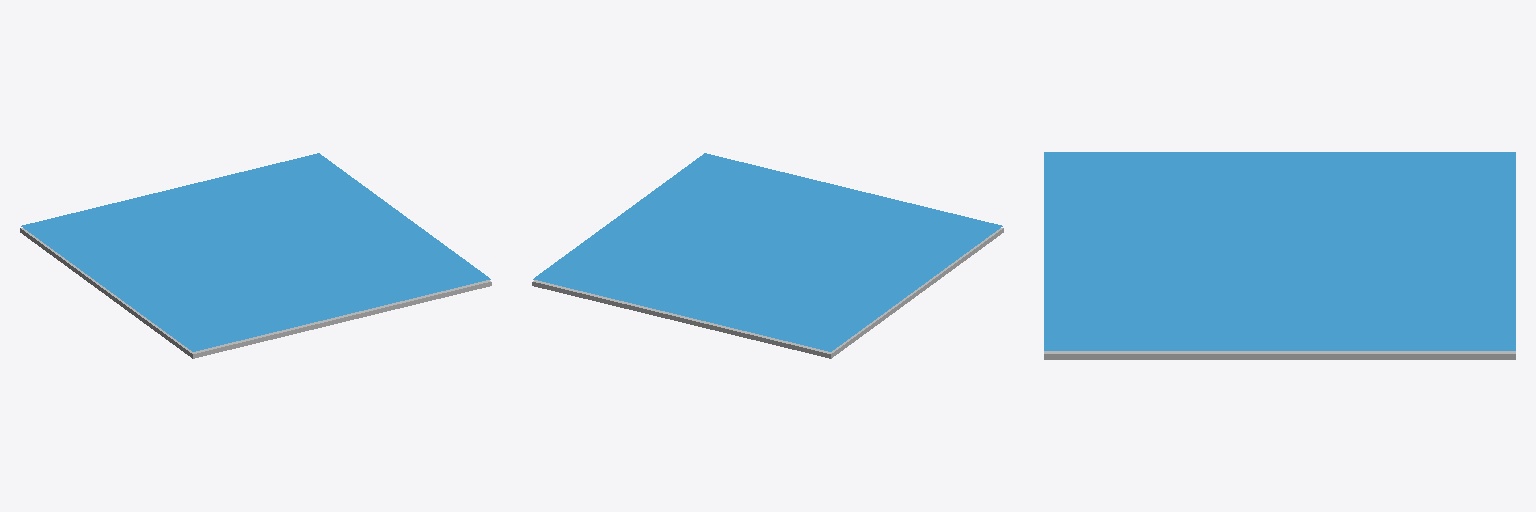
The robot description file, URDF, robot "neor_mini":
<?xml version="1.0" encoding="utf-8"?>
<!-- This URDF was automatically created by SolidWorks to URDF Exporter! Originally created by [author] ([email redacted]) 
     Commit Version: 1.5.1-0-g916b5db  Build Version: 1.5.7152.31018
     For more information, please see http://wiki.ros.org/sw_urdf_exporter -->
<robot name="neor_mini">

  <!-- Add Gazebo plugins -->
    <!-- Load ros_control plugin using the steer_bot_hardware_gazebo
    implementation of the hardware_interface::RobotHW -->

  <gazebo>
    <plugin name="gazebo_ros_control" filename="libgazebo_ros_control.so">
      <robotSimType>steer_bot_hardware_gazebo/SteerBotHardwareGazebo</robotSimType>
      <legacyModeNS>false</legacyModeNS>
    </plugin>
  </gazebo>

       <link name="base_link">
    <!-- avoid root link inertia warnings, annotation -->
    <inertial>
      <origin
        xyz="0.030649671440691 -1.79069899872708E-05 0.0558717976709459"
        rpy="0 0 0" />
      <mass
        value="1.72617713171385" />
      <inertia
        ixx="0.0107311274569357"
        ixy="-3.24164649120244E-08"
        ixz="0.00169188715816868"
        iyy="0.0198871551919603"
        iyz="2.40252669081509E-07"
        izz="0.0269841937242323" />
    </inertial>

    <visual>
      <origin xyz="0 0 0" rpy="0 0 0" />
      <geometry>
        <mesh filename="package://neor_mini/meshes/base_link.dae" />
      </geometry>
      <material name="">
      <color rgba="0.250980392156863 0.250980392156863 0.250980392156863 1" /> 
      </material> 
    </visual>
    <collision>
      <origin
        xyz="0 0 0"
        rpy="0 0 0" />
      <geometry>
        <mesh
          filename="package://neor_mini/meshes/base_link.STL" />
      </geometry>
    </collision>
  </link>
  <link
    name="rear_wheel_link">
    <inertial>
      <origin
        xyz="-8.88178419700125E-16 -2.05391259555654E-14 -0.00112500000001892"
        rpy="0 0 0" />
      <mass
        value="5.65486677646169E-05" />
      <inertia
        ixx="1.32005796313028E-10"
        ixy="-1.938704560671E-27"
        ixz="2.13770572261755E-26"
        iyy="1.32005796313028E-10"
        iyz="-7.60216295195271E-25"
        izz="2.03575203952622E-10" />
    </inertial>
    <visual>
      <origin
        xyz="0 0 0"
        rpy="0 0 0" />
      <geometry>
        <mesh
          filename="package://neor_mini/meshes/rear_wheel_link.STL" />
      </geometry>
      <material
        name="">
        <color
          rgba="0.274509803921569 1 0.247058823529412 1" />
      </material>
    </visual>
    <collision>
      <origin
        xyz="0 0 0"
        rpy="0 0 0" />
      <geometry>
        <mesh
          filename="package://neor_mini/meshes/rear_wheel_link.STL" />
      </geometry>
    </collision>
  </link>
  <joint
    name="rear_wheel_joint"
    type="continuous">
    <origin
      xyz="-0.181499999999597 0 0.0399999999987674"
      rpy="0 0 0" />
    <parent
      link="base_link" />
    <child
      link="rear_wheel_link" />
    <axis
      xyz="0 1 0" />
  </joint>
  <link
    name="left_rear_link">
    <inertial>
      <origin
        xyz="7.85229659072684E-11 -0.0196762547002777 4.85059770127805E-11"
        rpy="0 0 0" />
      <mass
        value="0.29556182905038" />
      <inertia
        ixx="0.000374087423652291"
        ixy="2.19336154342606E-13"
        ixz="-5.50404301757561E-12"
        iyy="0.000661017199375587"
        iyz="-5.10049385981967E-14"
        izz="0.000374087441459994" />
    </inertial>
    <visual>
      <origin
        xyz="0 0 0"
        rpy="0 0 0" />
      <geometry>
        <mesh
          filename="package://neor_mini/meshes/left_rear_link.STL" />
      </geometry>
      <material
        name="">
        <color
          rgba="0.792156862745098 0.819607843137255 0.933333333333333 1" />
      </material>
    </visual>
    <collision>
      <origin
        xyz="0 0 0"
        rpy="0 0 0" />
      <geometry>
        <mesh
          filename="package://neor_mini/meshes/left_rear_link.STL" />
      </geometry>
    </collision>
  </link>
  <joint
    name="left_rear_joint"
    type="continuous">
    <origin
      xyz="-0.181499999999595 0.228542434993694 0.0399999999991634"
      rpy="0 0 0" />
    <parent
      link="base_link" />
    <child
      link="left_rear_link" />
    <axis
      xyz="0 1 0" />
    <limit
      lower="-3.14"
      upper="3.14"
      effort="0"
      velocity="0" />
  </joint>
  <link
    name="right_rear_link">
    <inertial>
      <origin
        xyz="7.8521189550429E-11 0.0196762545376323 3.35983463273237E-11"
        rpy="0 0 0" />
      <mass
        value="0.295561829050389" />
      <inertia
        ixx="0.000374087423652306"
        ixy="-2.1933774523493E-13"
        ixz="5.50404145624456E-12"
        iyy="0.000661017199375601"
        iyz="-5.10073974604221E-14"
        izz="0.000374087441459995" />
    </inertial>
    <visual>
      <origin
        xyz="0 0 0"
        rpy="0 0 0" />
      <geometry>
        <mesh
          filename="package://neor_mini/meshes/right_rear_link.STL" />
      </geometry>
      <material
        name="">
        <color
          rgba="0.792156862745098 0.819607843137255 0.933333333333333 1" />
      </material>
    </visual>
    <collision>
      <origin
        xyz="0 0 0"
        rpy="0 0 0" />
      <geometry>
        <mesh
          filename="package://neor_mini/meshes/right_rear_link.STL" />
      </geometry>
    </collision>
  </link>
  <joint
    name="right_rear_joint"
    type="continuous">
    <origin
      xyz="-0.181499999999595 -0.228542434994426 0.0399999999991584"
      rpy="0 0 0" />
    <parent
      link="base_link" />
    <child
      link="right_rear_link" />
    <axis
      xyz="0 1 0" />
    <limit
      lower="-3.14"
      upper="3.14"
      effort="0"
      velocity="0" />
  </joint>
  <link
    name="front_steer_link">
    <inertial>
      <origin
        xyz="-2.1316282072803E-14 3.67778030252452E-11 -0.00112486602459905"
        rpy="0 0 0" />
      <mass
        value="5.65486677646163E-05" />
      <inertia
        ixx="1.32005796313026E-10"
        ixy="1.16322273640277E-26"
        ixz="1.20446157864484E-28"
        iyy="1.32005796313026E-10"
        iyz="-8.66481261175625E-27"
        izz="2.03575203952619E-10" />
    </inertial>
    <visual>
      <origin
        xyz="0 0 0"
        rpy="0 0 0" />
      <geometry>
        <mesh
          filename="package://neor_mini/meshes/front_steer_link.STL" />
      </geometry>
      <material
        name="">
        <color
          rgba="0.274509803921569 1 0.247058823529412 1" />
      </material>
    </visual>
    <collision>
      <origin
        xyz="0 0 0"
        rpy="0 0 0" />
      <geometry>
        <mesh
          filename="package://neor_mini/meshes/front_steer_link.STL" />
      </geometry>
    </collision>
  </link>
  <joint
    name="front_steer_joint"
    type="revolute">
    <origin
      xyz="0.172883370897628 0 -0.00376561854722868"
      rpy="0 0 0" />
    <parent
      link="base_link" />
    <child
      link="front_steer_link" />
    <axis
      xyz="0 0 1" />
    <limit
      lower="-0.72"
      upper="0.72"
      effort="0"
      velocity="0" />
  </joint>

<!-- In order to fit ackermann simulation plugins's request,amend the front steer link and it's joint -->
 <link name="front_steer_right_link">
 <!--  remember add inertial  label,if not,and it can't visual on gazebo-->
 <inertial>  
      <origin xyz="9.44636555644252E-08 -0.000295273745285485 -8.13046296954667E-11" rpy="0 0 0" />
      <mass value="0.296315811300368" /> 
      <inertia
        ixx="0.000374692013709393"
        ixy="-9.17172260383823E-08"
        ixz="-2.43187512356516E-12"
        iyy="0.000661029987747155"
        iyz="1.9736939507106E-13"
        izz="0.000374691963930348" />
    </inertial>
   <visual>
     <geometry>
       <cylinder length="0.001" radius="0.005"/>
     </geometry>
     <origin rpy="0 0 0"  xyz="0 0 0" />
     <material name=""> 
          <color rgba="0.792156862745098 0.819607843137255 0.933333333333333 1" />
     </material>
   </visual>
   <collision>
      <origin
        xyz="0 0 0"
        rpy="0 0 0" />
      <geometry>
       <cylinder length="0.001" radius="0.005"/>
      </geometry>
    </collision>
 </link>
 <joint name="front_steer_right_joint" type="revolute">
    <origin rpy="0 0 0"  xyz="0.17 -0.21 0.102" />
    <parent link="base_link" />
    <child link="front_steer_right_link" />
    <axis xyz="0 0 1" />     <!-- charge steer direction default is 0 0 1-->
    <limit lower="-0.69" upper="0.69" effort="0" velocity="0" />
 </joint>
<!-- ************************************************************************************* -->

  <link
    name="front_right_wheel_link">
    <inertial>
      <origin
        xyz="9.44636555644252E-08 -0.000295273745285485 -8.13046296954667E-11"
        rpy="0 0 0" />
      <mass
        value="0.296315811300368" />
      <inertia
        ixx="0.000374692013709393"
        ixy="-9.17172260383823E-08"
        ixz="-2.43187512356516E-12"
        iyy="0.000661029987747155"
        iyz="1.9736939507106E-13"
        izz="0.000374691963930348" />
    </inertial>
    <visual>
      <origin
        xyz="0 0 0"
        rpy="0 0 0" />
      <geometry>
        <mesh
          filename="package://neor_mini/meshes/front_right_wheel_link.STL" />
      </geometry>
      <material
        name="">
        <color
          rgba="0.792156862745098 0.819607843137255 0.933333333333333 1" />
      </material>
    </visual>
    <collision>
      <origin
        xyz="0 0 0"
        rpy="0 0 0" />
      <geometry>
        <mesh
          filename="package://neor_mini/meshes/front_right_wheel_link.STL" />
      </geometry>
    </collision>
  </link>
  <joint name="front_right_wheel_joint" type="continuous">
    <origin xyz="0 0 -0.06" rpy="0 0 0" />   <!-- amend the position between steer_right_link and front right wheel-->
    <parent link="front_steer_right_link" />
    <child  link="front_right_wheel_link" />
    <axis xyz="0 1 0" />
  </joint>

<!-- In order to fit ackermann simulation plugins's request,amend the front steer link and it's joint -->
 <link name="front_steer_left_link">
 <!--  remember add inertial  label,if not,and it can't visual on gazebo-->
    <inertial> 
      <origin xyz="9.44636555644252E-08 -0.000295273745285485 -8.13046296954667E-11" rpy="0 0 0" />
      <mass value="0.296315811300368" /> 
      <inertia
        ixx="0.000374692013709393"
        ixy="-9.17172260383823E-08"
        ixz="-2.43187512356516E-12"
        iyy="0.000661029987747155"
        iyz="1.9736939507106E-13"
        izz="0.000374691963930348" />
    </inertial>
   <visual>
     <geometry>
       <cylinder length="0.001" radius="0.005"/>
     </geometry>
     <origin rpy="0 0 0"  xyz="0 0 0" />
   </visual>
    <collision>
      <origin xyz="0 0 0" rpy="0 0 0" />
      <geometry>
       <cylinder length="0.001" radius="0.005"/>
      </geometry>
    </collision>
 </link>
 <joint name="front_steer_left_joint" type="revolute">
    <origin rpy="0 0 0"  xyz="0.17 0.21 0.102" />
    <parent link="base_link" />
    <child link="front_steer_left_link" />
    <axis xyz="0 0 1" />  <!-- charge steer direction default is 0 0 1-->
    <limit lower="-0.69" upper="0.69" effort="0" velocity="0" />
 </joint>
<!-- ************************************************************************************* -->

  <link
    name="front_left_wheel_link">
    <inertial>
      <origin
        xyz="-3.99413835339146E-11 0.000295273997845347 1.08602016268833E-10"
        rpy="0 0 0" />
      <mass
        value="0.296315811293944" />
      <inertia
        ixx="0.00037469197851121"
        ixy="-1.84493877596723E-13"
        ixz="-9.50756757097929E-12"
        iyy="0.00066103001709398"
        iyz="-1.17866882205563E-13"
        izz="0.000374691969713977" />
    </inertial>
    <visual>
      <origin
        xyz="0 0 0"
        rpy="0 0 0" />
      <geometry>
        <mesh
          filename="package://neor_mini/meshes/front_left_wheel_link.STL" />
      </geometry>
      <material
        name="">
        <color
          rgba="0.792156862745098 0.819607843137255 0.933333333333333 1" />
      </material>
    </visual>
    <collision>
      <origin
        xyz="0 0 0"
        rpy="0 0 0" />
      <geometry>
        <mesh
          filename="package://neor_mini/meshes/front_left_wheel_link.STL" />
      </geometry>
    </collision>
  </link>
  <joint name="front_left_wheel_joint" type="continuous">
    <origin xyz="0 0 -0.06" rpy="0 0 0" />      <!-- amend the position between steer_left_link and front left wheel-->
    <parent link="front_steer_left_link" />
    <child link="front_left_wheel_link" />
    <axis xyz="0 1 0" /> 
  </joint>

<!-- ************************************************************************************* -->
  <joint name="tag_joint" type="fixed">
      <origin xyz="0.0 0.0 0.15" rpy="0 0 0"/>
      <axis xyz="0 0 1"/>
      <parent link="base_link"/>
      <child link="tag_link"/>
  </joint>

  <link name="tag_link">
      <collision>
          <origin xyz="0 0 0" rpy="0 0 0"/>
          <geometry>
              <box size="0.69 0.69 0.01"/>
          </geometry>
      </collision>

      <visual>
          <origin xyz="0 0 0" rpy="0 0 0"/>
          <geometry>
              <!-- <box size="0.69 0.69 0.01"/> -->
              <mesh filename="package://catvehicle/meshes/apriltags.dae"/>
          </geometry>
      </visual>
  </link>
<!-- ************************************************************************************* -->

<!--add color for links -->
  <gazebo reference="base_link">
    <material>Gazebo/DarkGrey </material>
  </gazebo>

  <gazebo reference="front_steer_left_link">
    <material>Gazebo/Road</material>
  </gazebo>

  <gazebo reference="front_steer_right_link">
    <material>Gazebo/Road</material>
  </gazebo>

  <gazebo reference="front_left_wheel_link">
    <material>Gazebo/Road</material>
  </gazebo>

  <gazebo reference="front_right_wheel_link">
    <material>Gazebo/Road</material>
  </gazebo>
  
  <gazebo reference="left_rear_link">
    <material>Gazebo/Road</material>
  </gazebo>

  <gazebo reference="right_rear_link">
    <material>Gazebo/Road</material>
  </gazebo>

</robot>

--- What the picture shows (computed from the rendered views, not written in the file) ---
The picture shows the robot from 3 angles, left to right: view 1: azimuth 30°, elevation 25°; view 2: azimuth 150°, elevation 25°; view 3: azimuth 270°, elevation 25°; orthographic projection.
Robot: neor_mini — 10 links, 9 joints (3 revolute, 5 continuous, 1 fixed); root link base_link; default pose: every joint at zero.
Links seen in each view (by area): view 1: tag_link; view 2: tag_link; view 3: tag_link.
Boxes of the visible links, x1,y1,x2,y2 form: tag_link: [20, 153, 491, 358]; tag_link: [532, 153, 1003, 358]; tag_link: [1044, 152, 1515, 359].
Bounding box of the posed robot: 0.69 × 0.69 × 0.0585 m (x, y, z).
Meshes: 8 distinct files referenced, 1 mesh visuals loaded (1 Collada DAE); not drawn: 7 (reference not matched to a file when rendering).